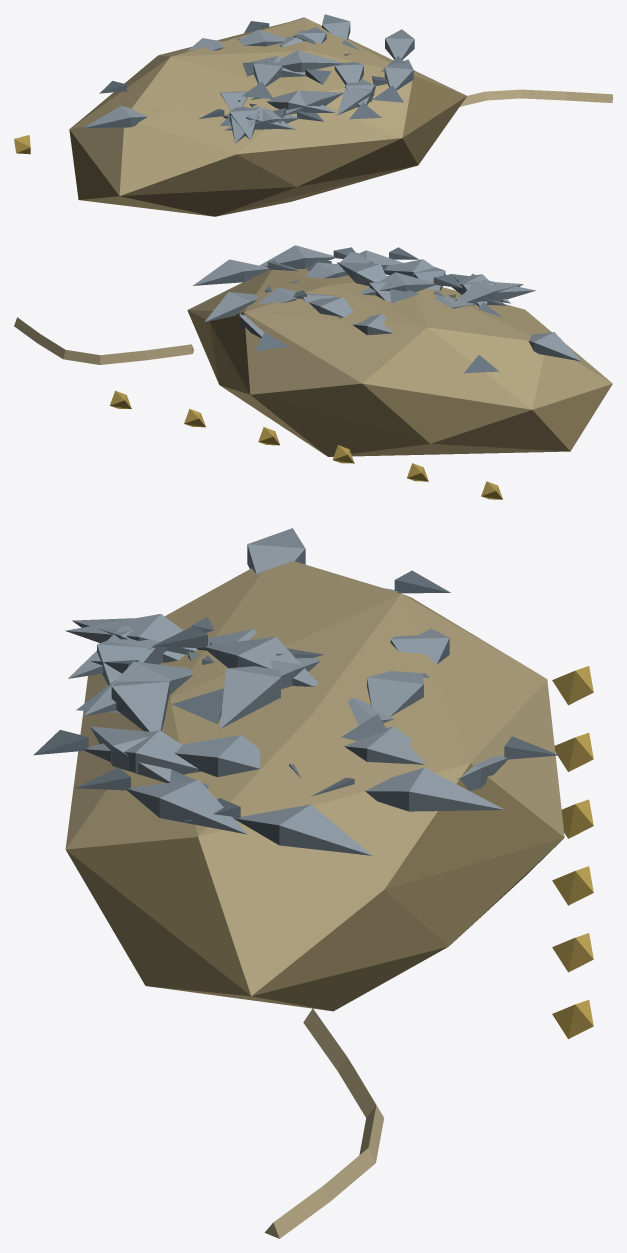
The model's file is fullnet.glb.
3 views of the same model, one above another, from view 1: azimuth 30°, elevation 25°; view 2: azimuth 150°, elevation 25°; view 3: azimuth 270°, elevation 25° (orthographic). The views are drawn at different scales.
Visible parts, largest first — view 1: base; view 2: base; view 3: base.
Part boxes in pixels (box(x1,y1,x2,y2)): base: box(14, 14, 612, 216); base: box(14, 245, 612, 499); base: box(33, 528, 593, 1238).
Bounding box in the file's own units: 0.9242 × 0.2341 × 0.4259.
